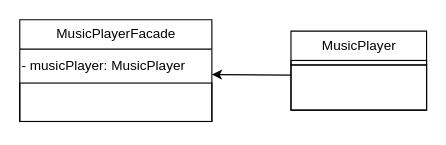
Some shapes in this 446 by 145 pixel diagram are drawn without their labels. Here are the shapes that lost their labels. From the top down, the centre of each, then its label:
At (x=115, y=101): "+ PlayMusic(String song)".
At (x=358, y=87): "+ load(String song) + play()".
